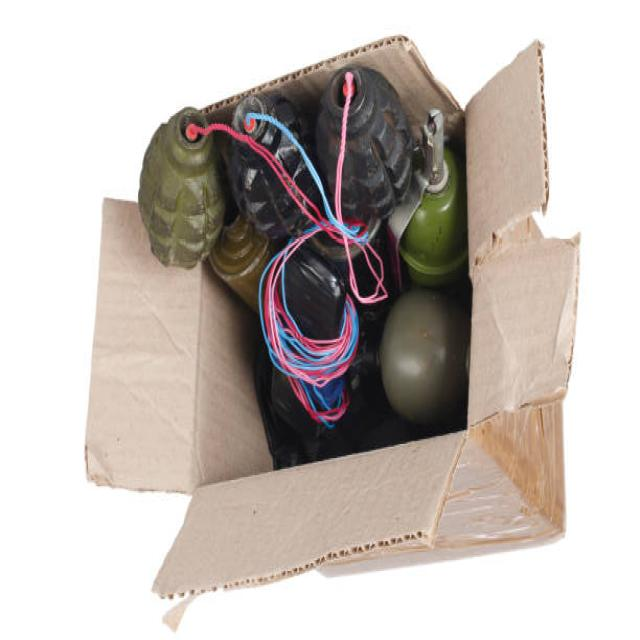grenade: (222, 87, 329, 245), (315, 60, 414, 230), (133, 101, 227, 274)
